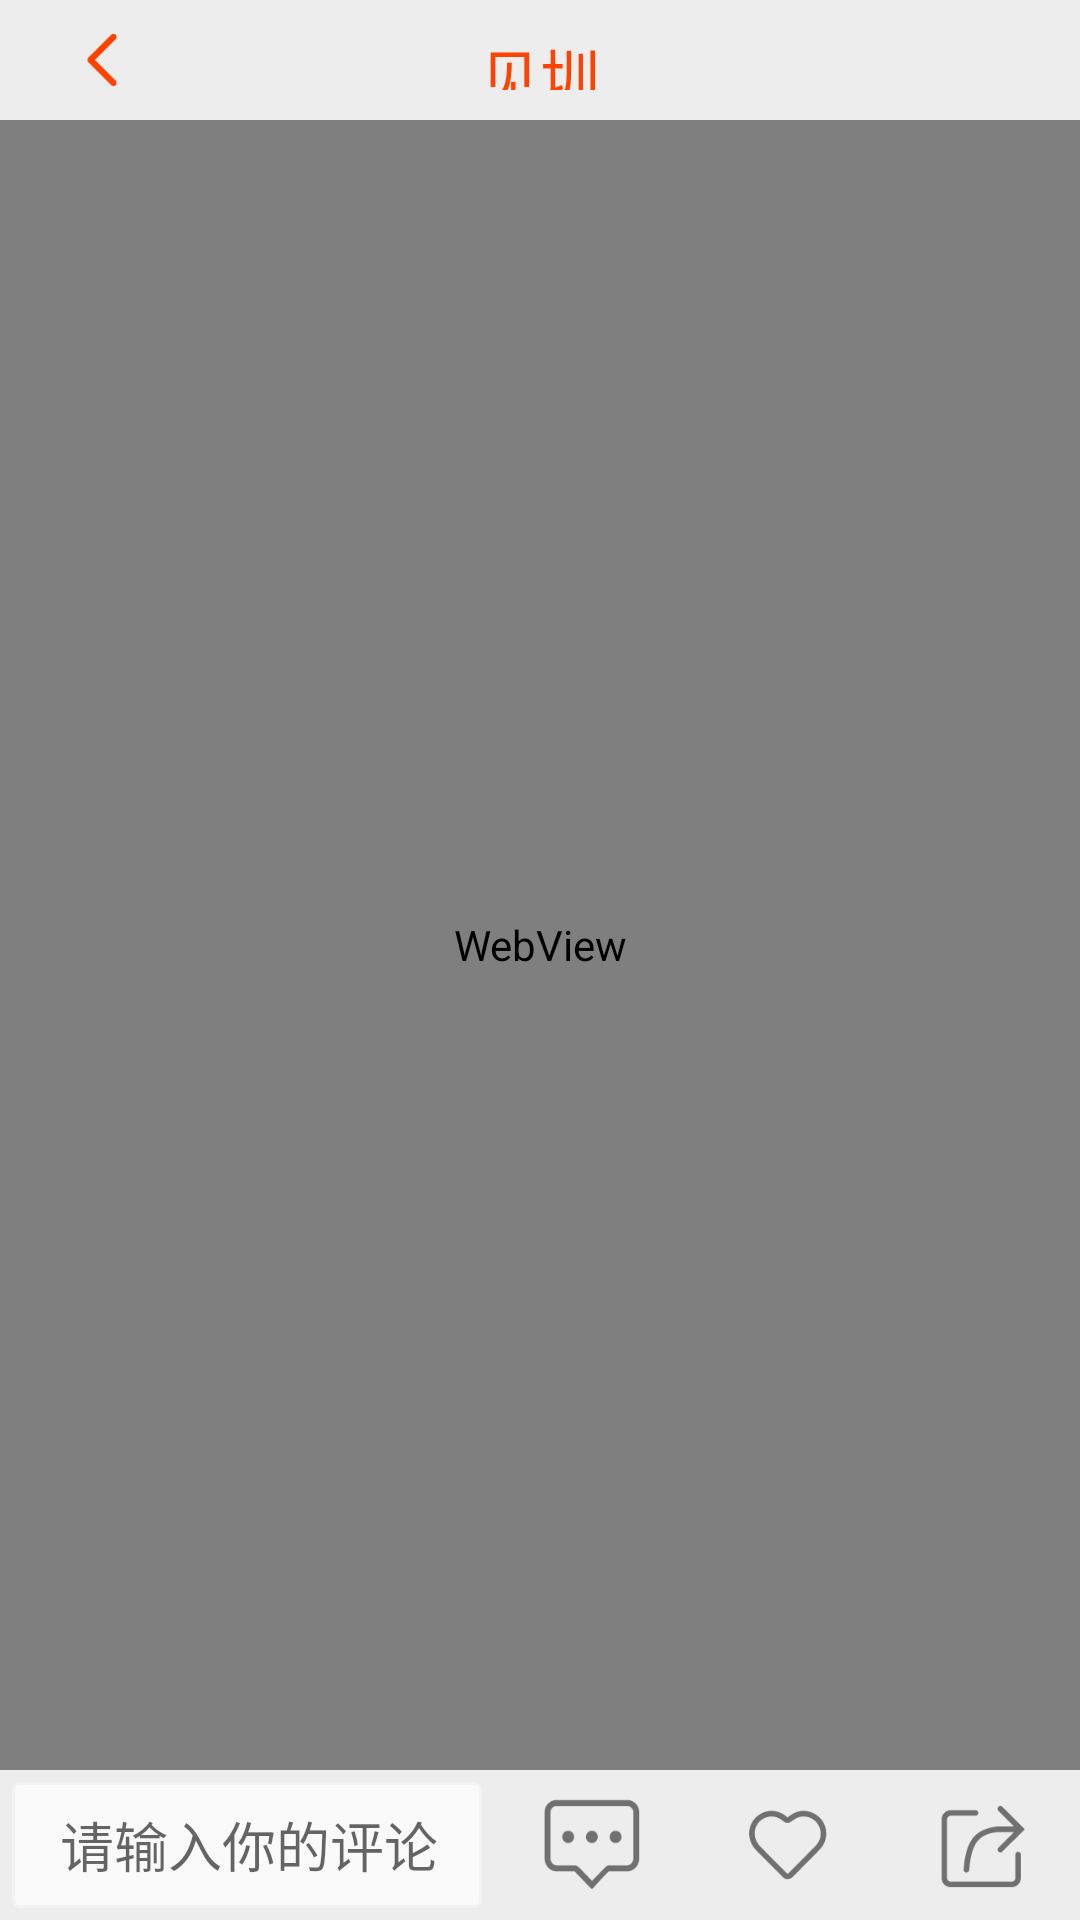

Named icons in this screenshot (1080w x 1920h) and their bounding boxes, [x1, y1, x2, y2]:
back: [87, 34, 117, 86]
collection news: [749, 1810, 827, 1880]
comment: [544, 1800, 640, 1889]
share: [941, 1806, 1025, 1887]
